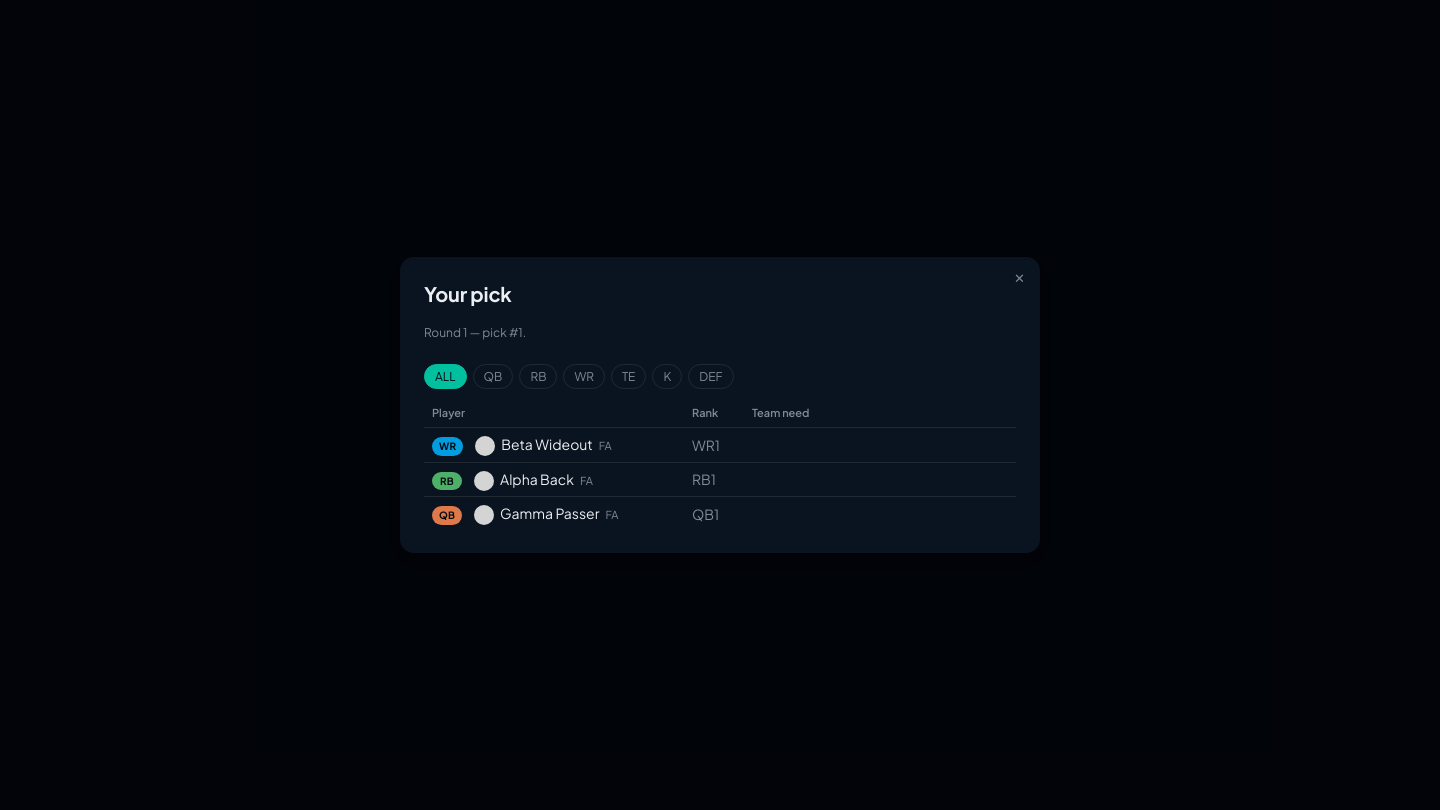
Test: OnTheClockPickInput › filters to the selected position
The width and height of the screenshot is (1440, 810).
Click the button "WR" at (584, 376), box left=564, top=364, right=605, bottom=389
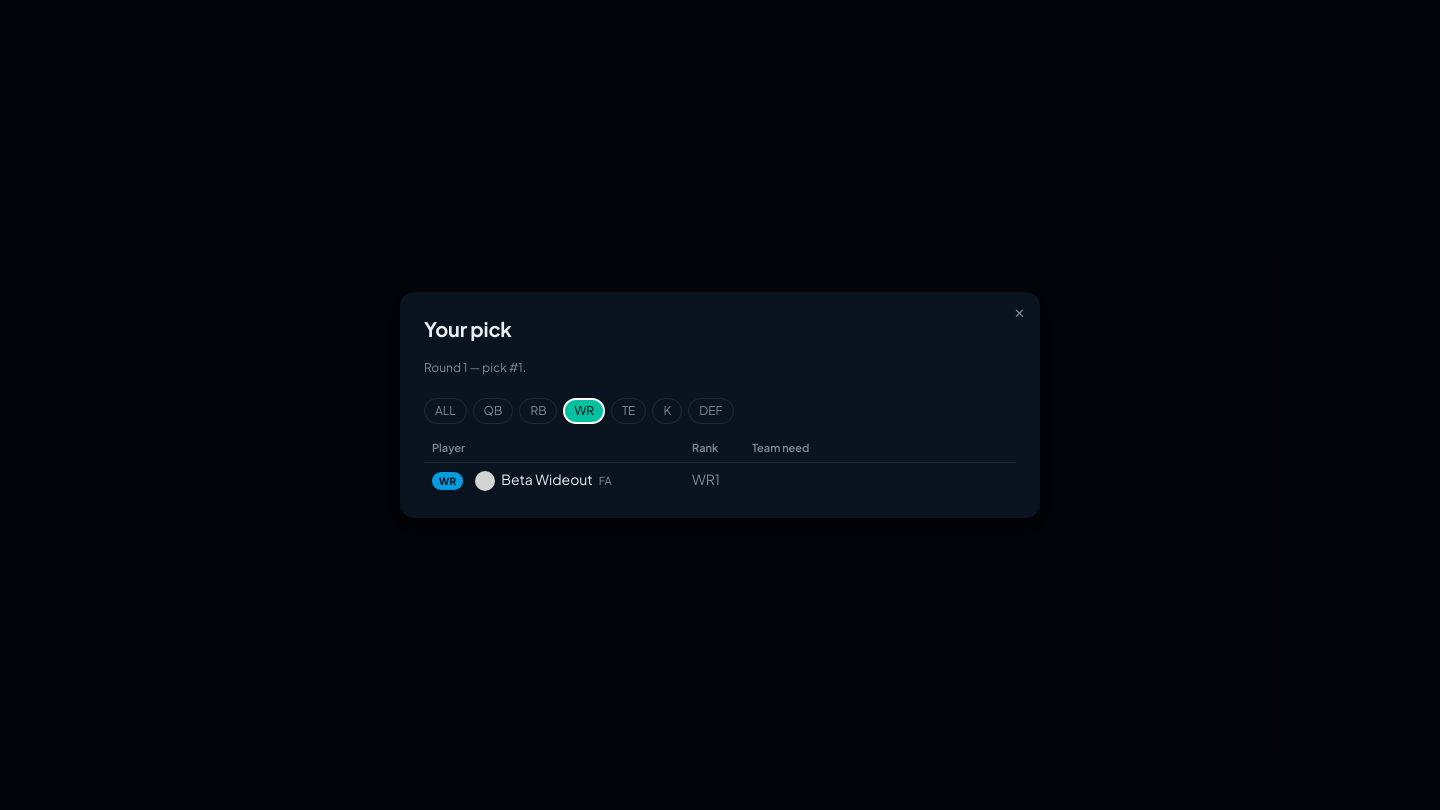
expect the text "Beta Wideout" is shown: met, box left=501, top=470, right=593, bottom=488
expect the text "Alpha Back" is gone: met
expect the text "Gamma Passer" is gone: met
